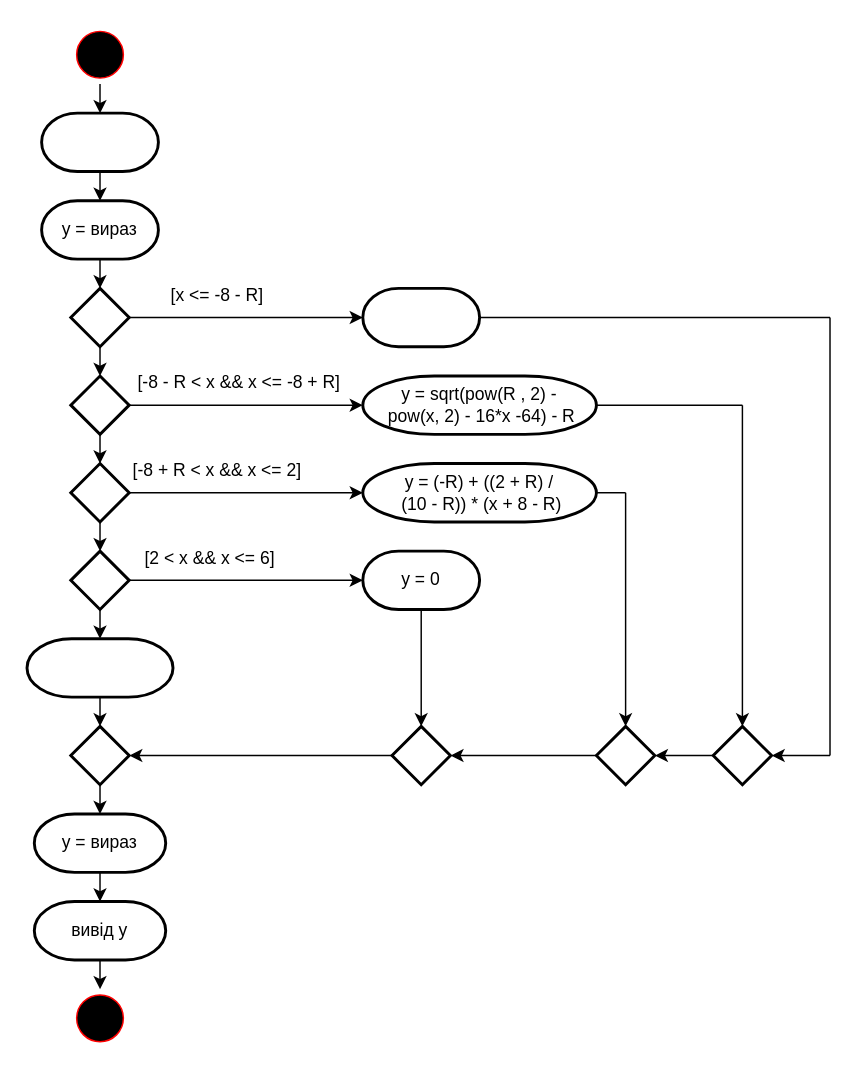
Some shapes in this 867 by 1073 pixel diagram are drawn without their labels. The shapes that lost their labels are listed below. From the top down, each one's centre as x and y in pixels, then its label:
At point (99, 141): "ввід x, R".
At point (420, 316): "y = -R".
At point (99, 667): "y = pow(x - 6, 2)".
